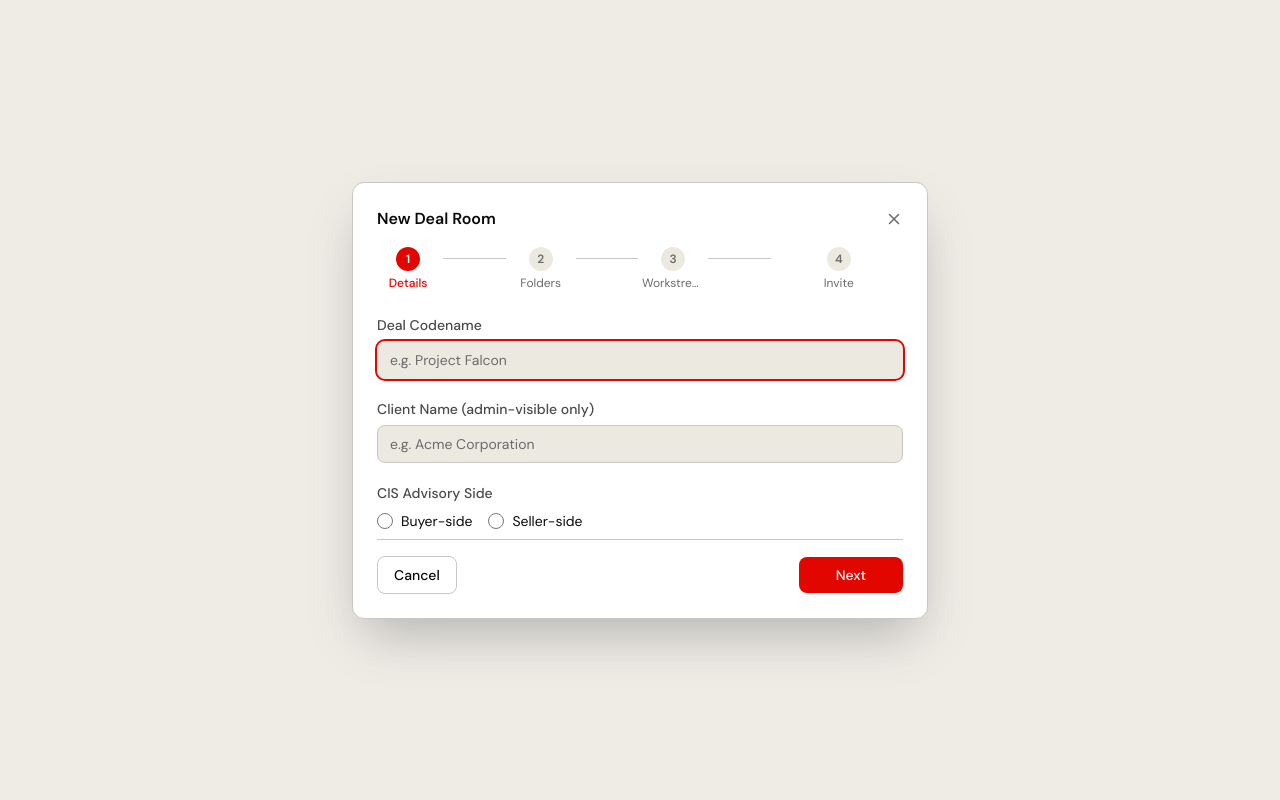
Scenario: NewDealWizard — Workstreams step › Skip advances without any workstream POSTs
Type "Project Falcon" into the field labelled "Deal Codename".
click(640, 360); type("Project Falcon")  # box [377,340,903,378]
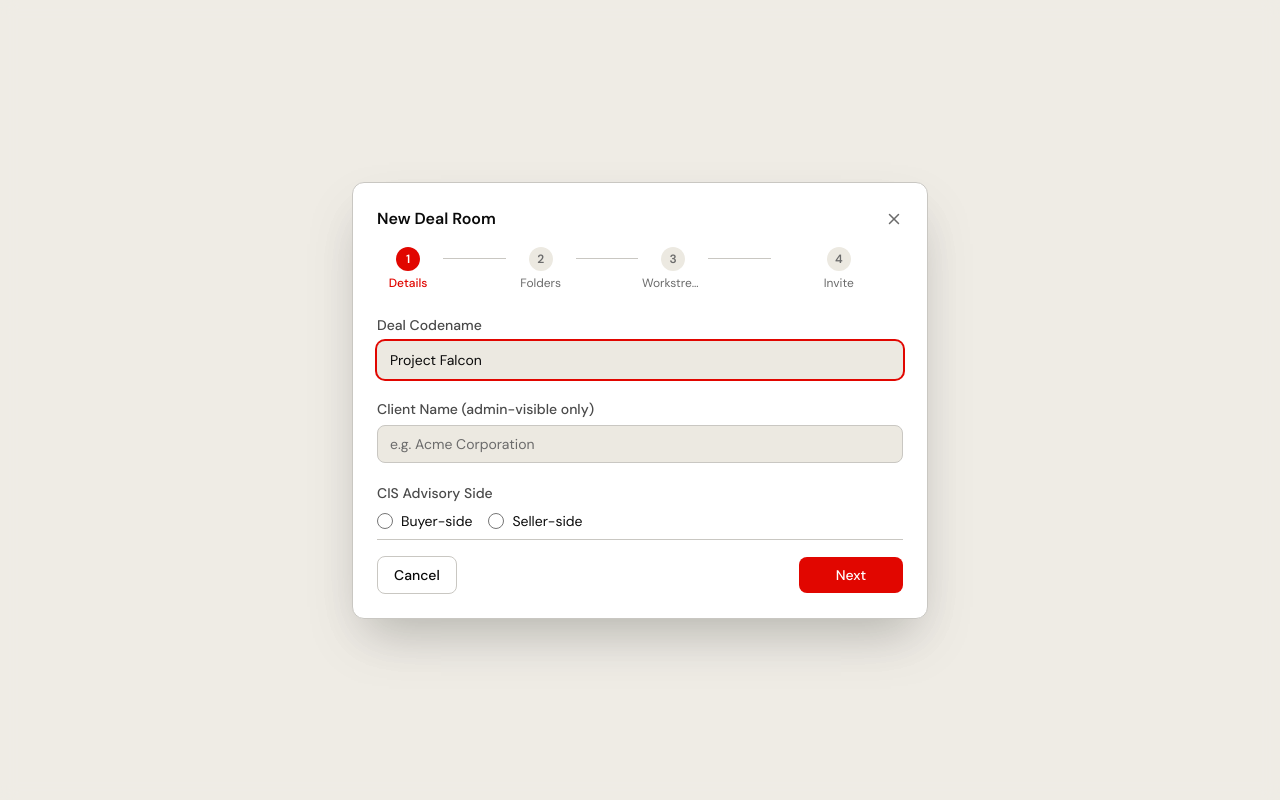
Type "Acme Corp" into the field labelled "Client Name (admin-visible only)".
click(640, 444); type("Acme Corp")  # box [377,424,903,462]
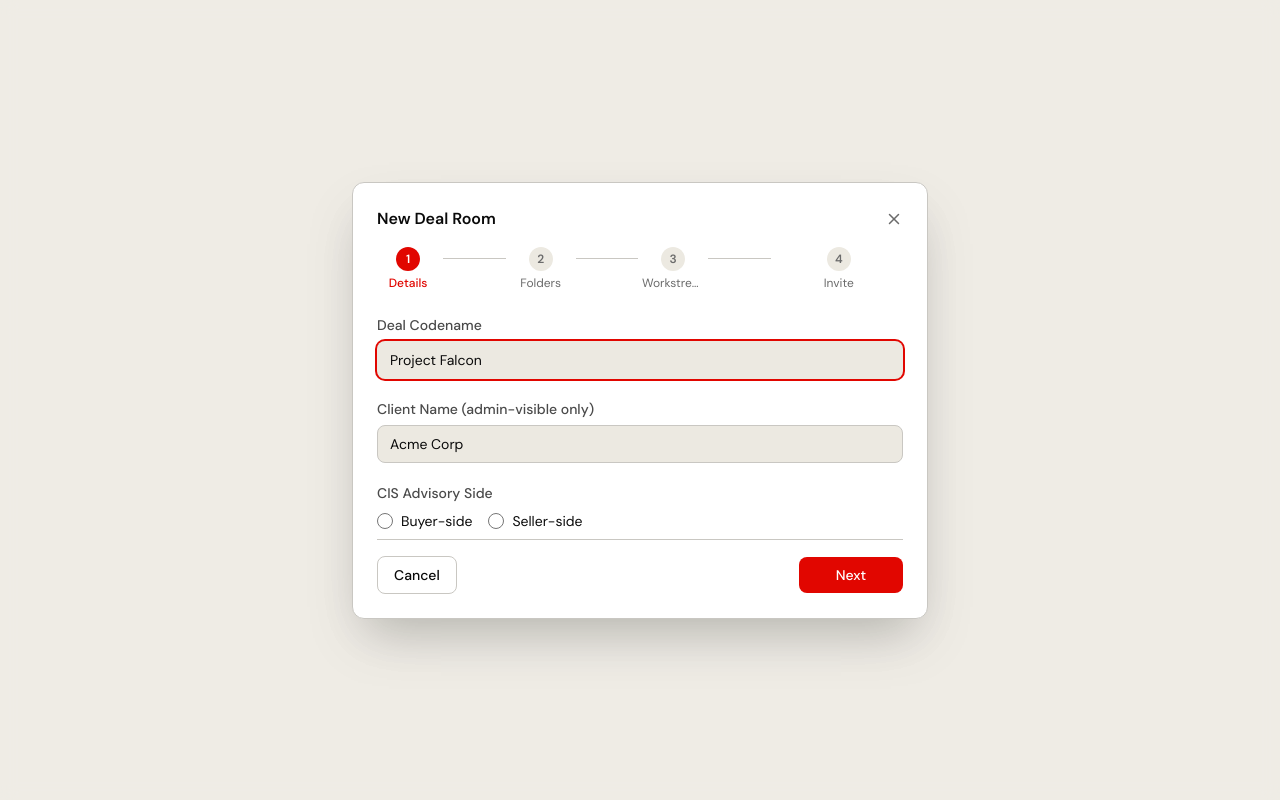
Click the radio button labelled "Seller-side".
click(496, 520)  # box [488,512,504,528]
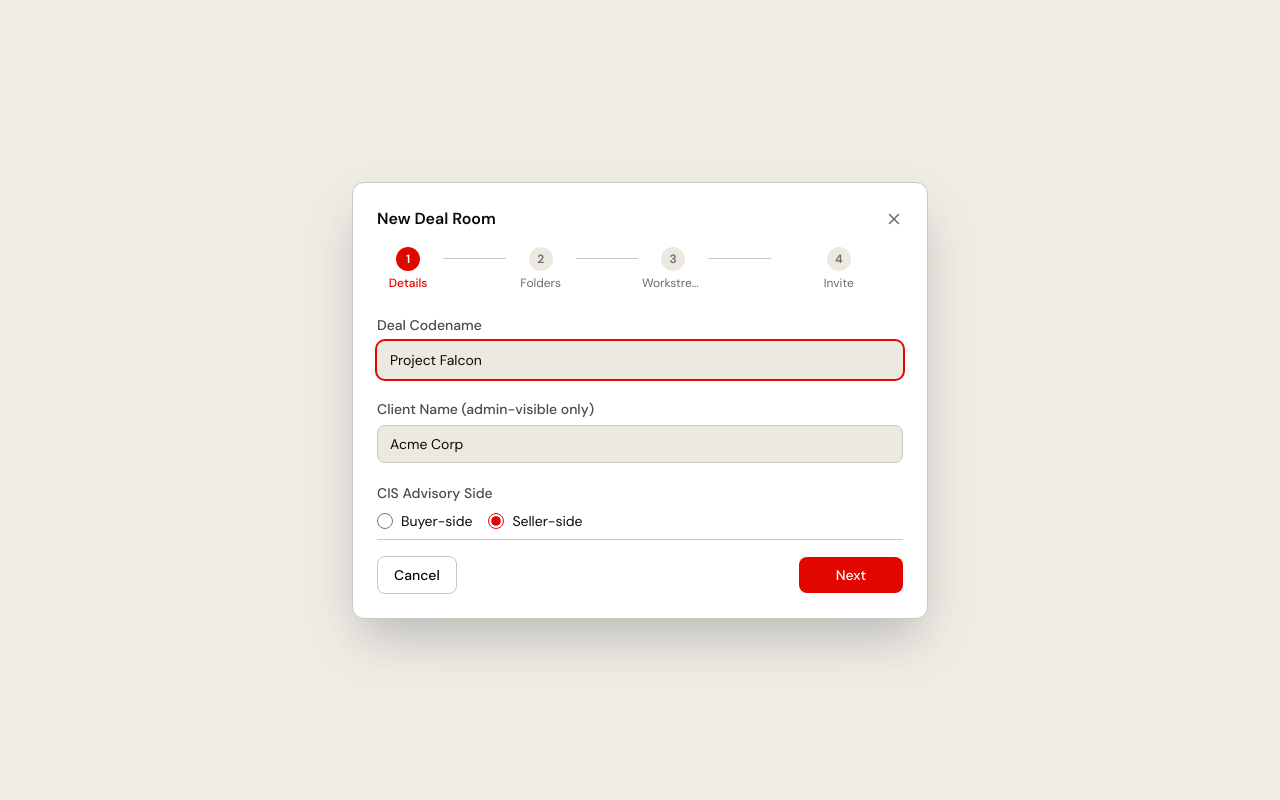
Click the button "Next".
click(851, 574)  # box [799,556,903,592]
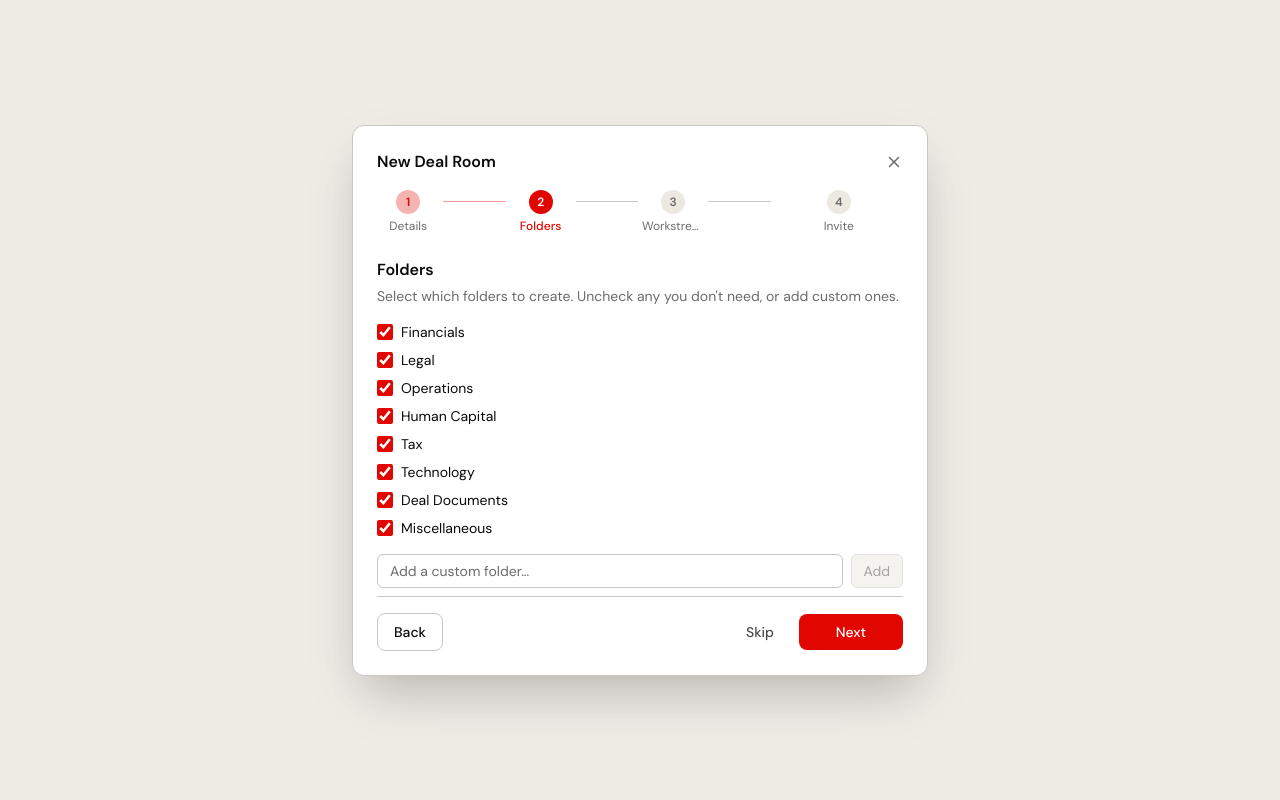
Now the heading "Folders" is shown, box [377,258,434,280]
Click the button "Next".
click(851, 632)  # box [799,614,903,650]
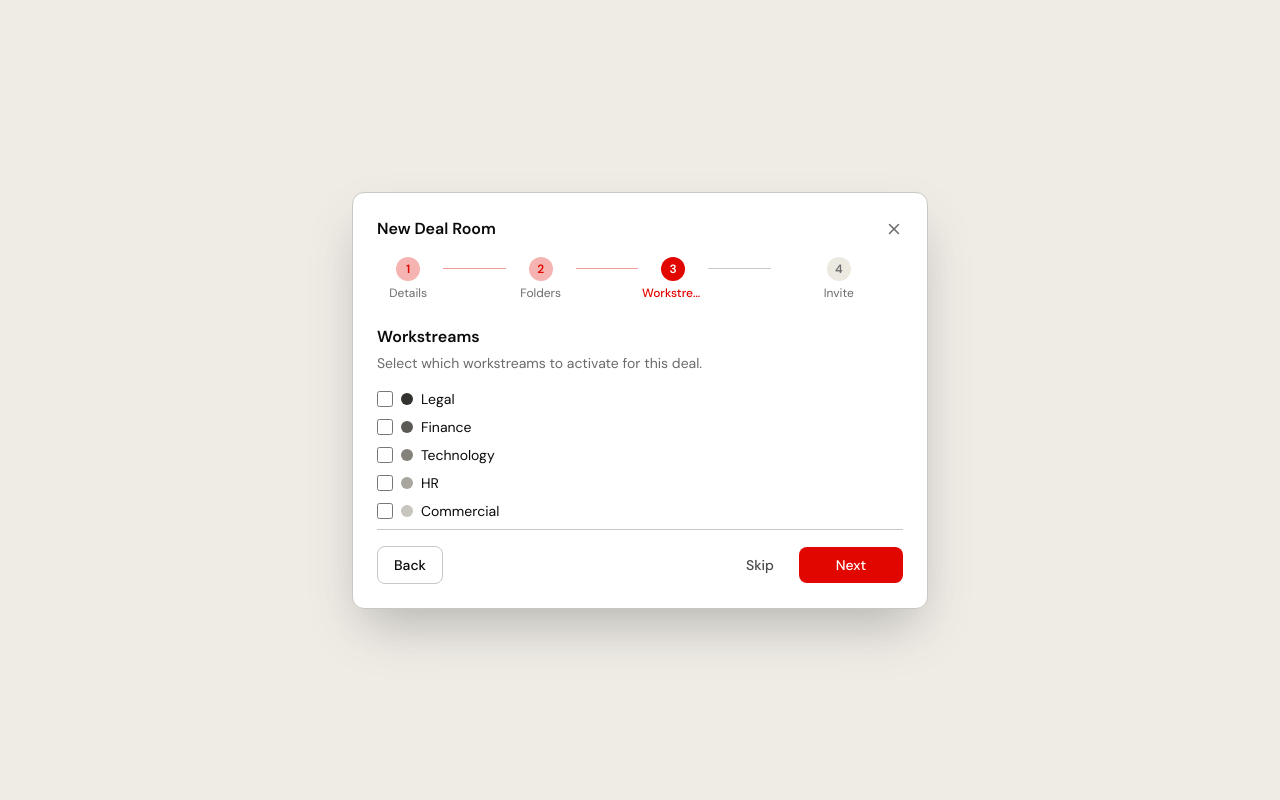
Now the heading "Workstreams" is shown, box [377,326,480,346]
Click the button "Skip".
click(760, 564)  # box [729,546,791,584]
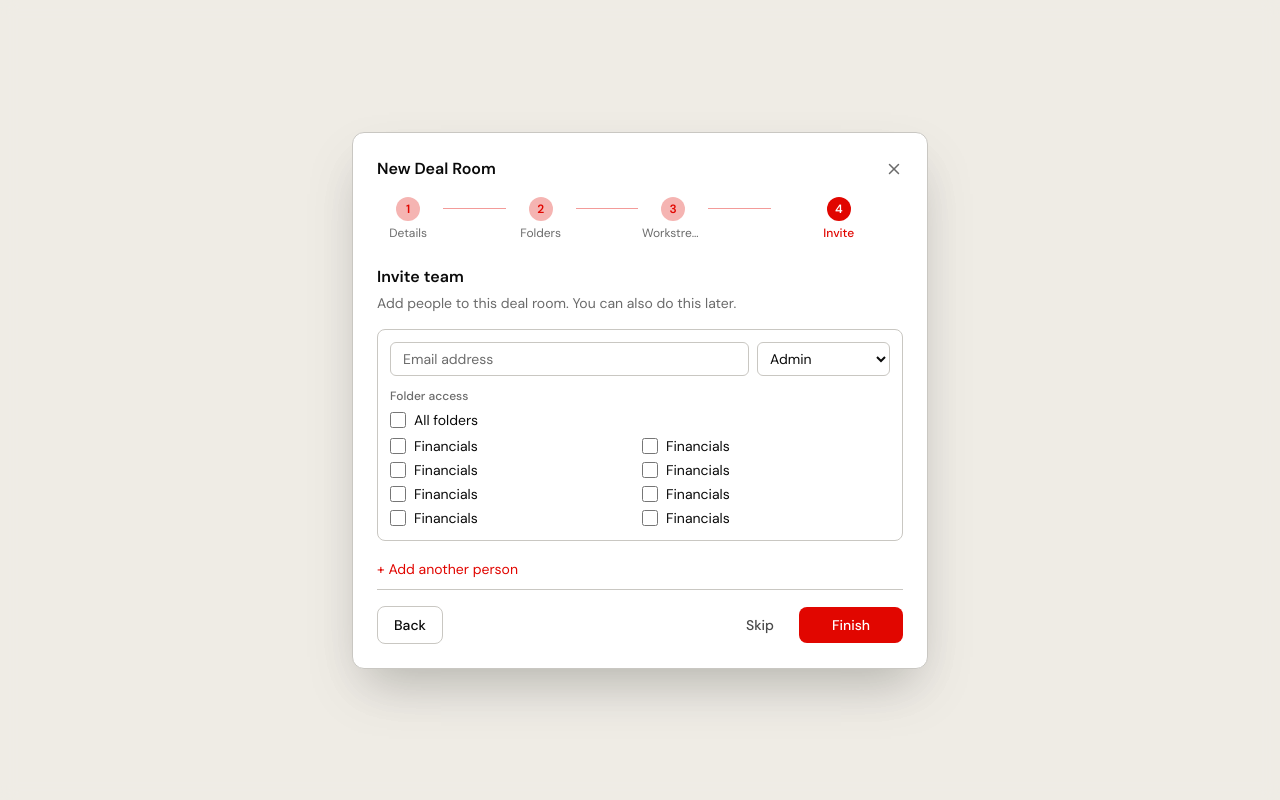
Now the heading "Invite team" is shown, box [377,266,464,286]
